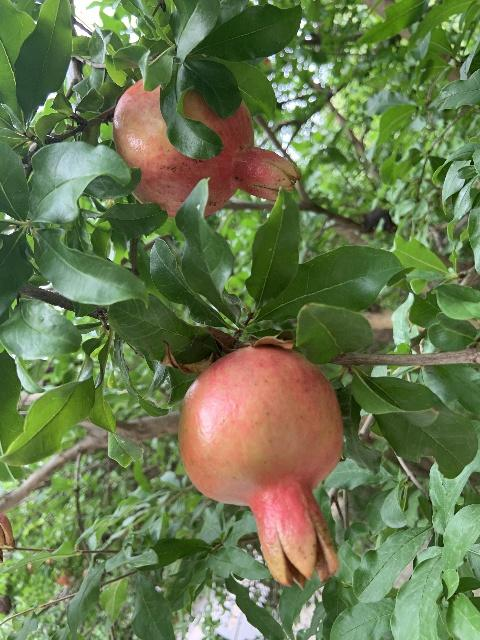ripe: (177, 342, 344, 589), (112, 80, 299, 219)
